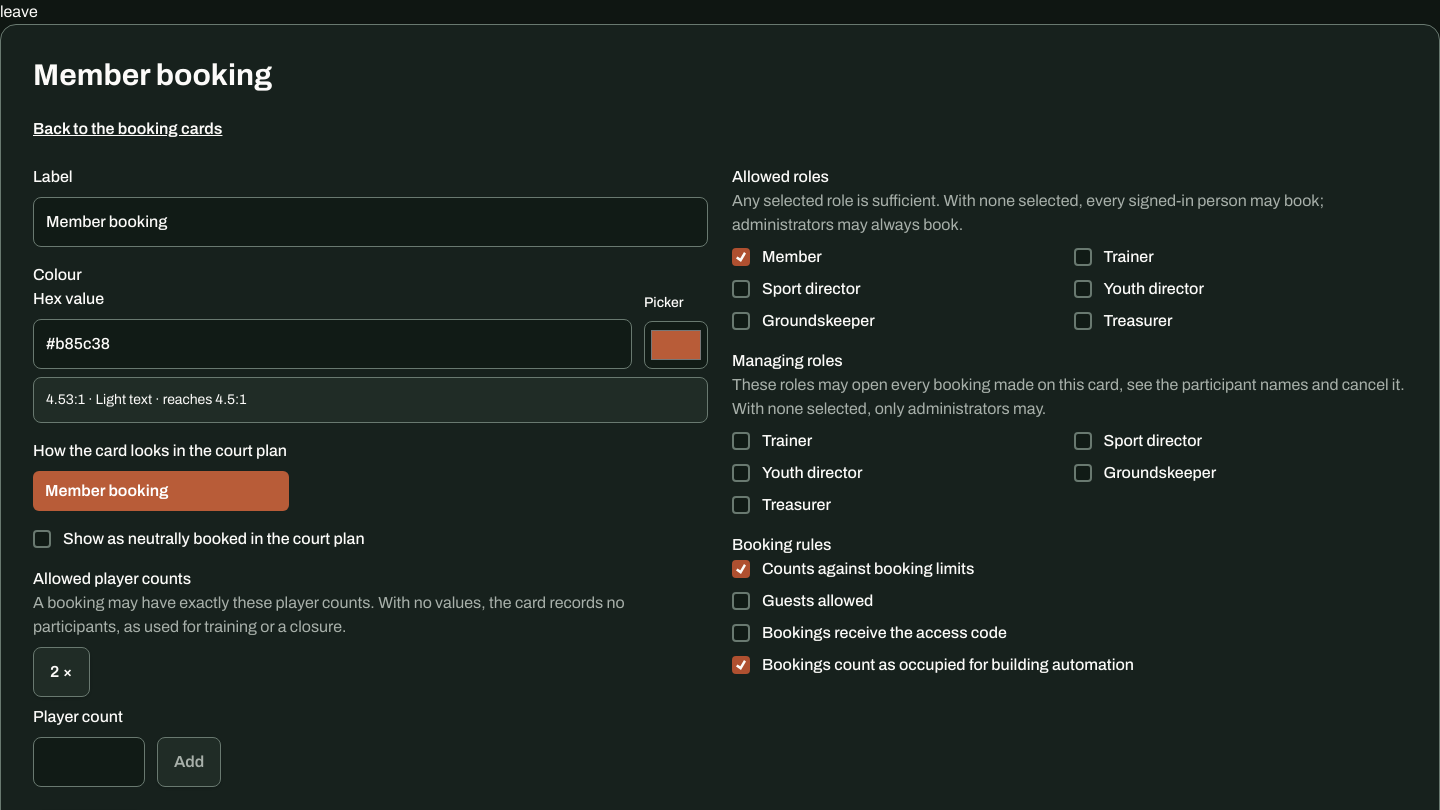
Test: leaving an administrative page with unsaved work › given an edit on the booking card page, when another page is opened, then the page asks first
In the field with test id "card-label": point(370, 222) [33, 197, 708, 247], type "!"
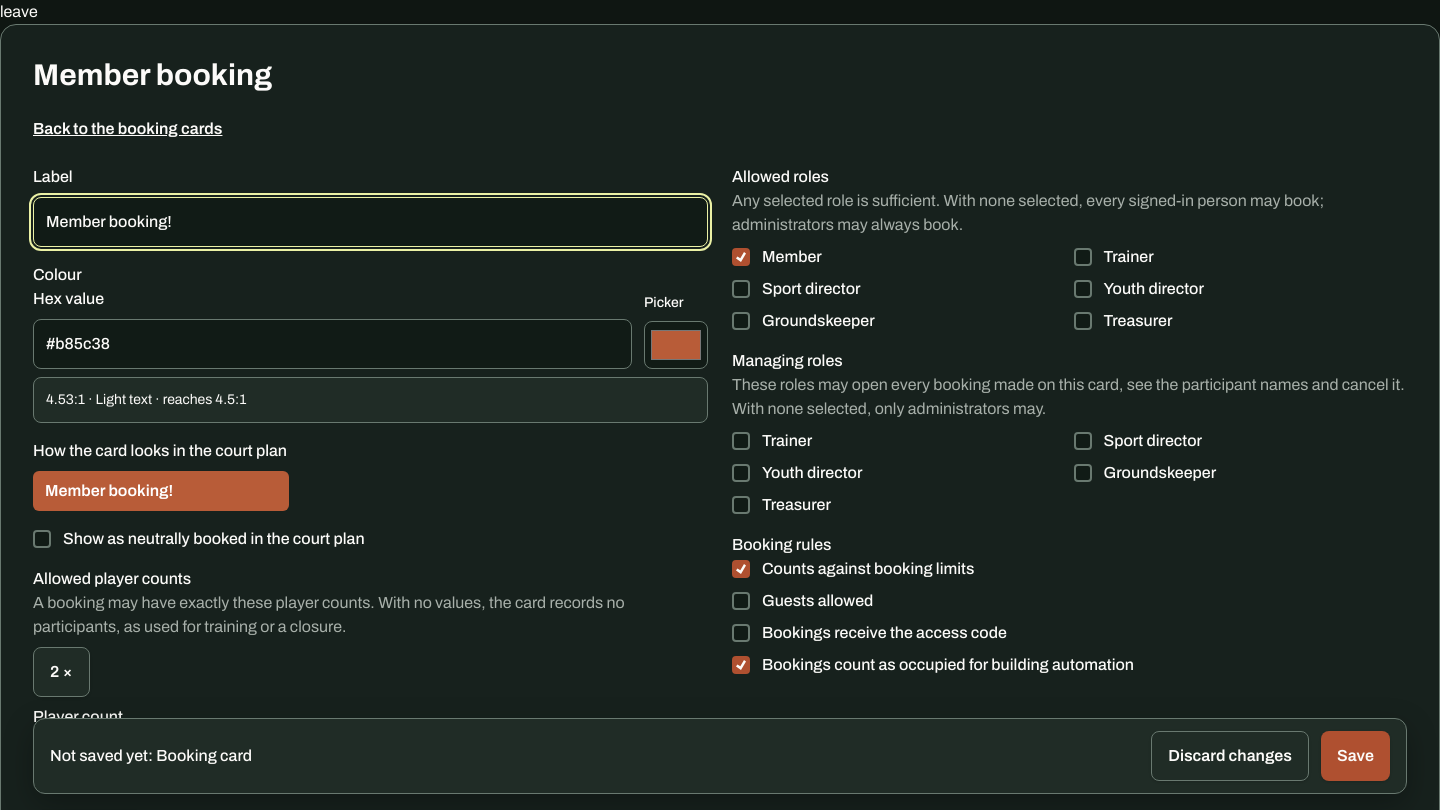
Check: the element with test id "save-bar" is shown, box [33, 718, 1407, 794]
Click the link with test id "leave": point(19, 12) [0, 3, 38, 20]
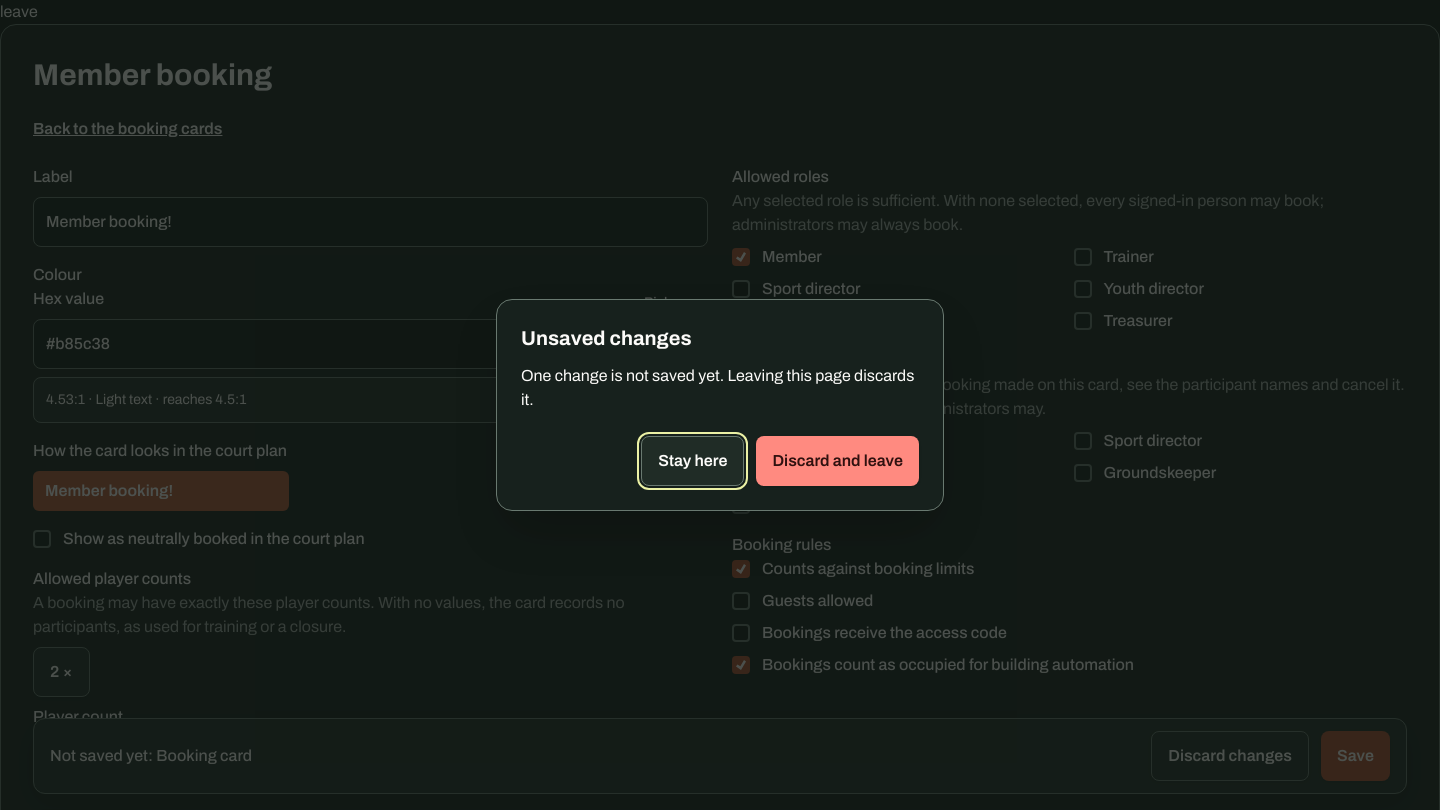
Check: the dialog with test id "unsaved-changes" is shown, box [496, 299, 944, 511]
